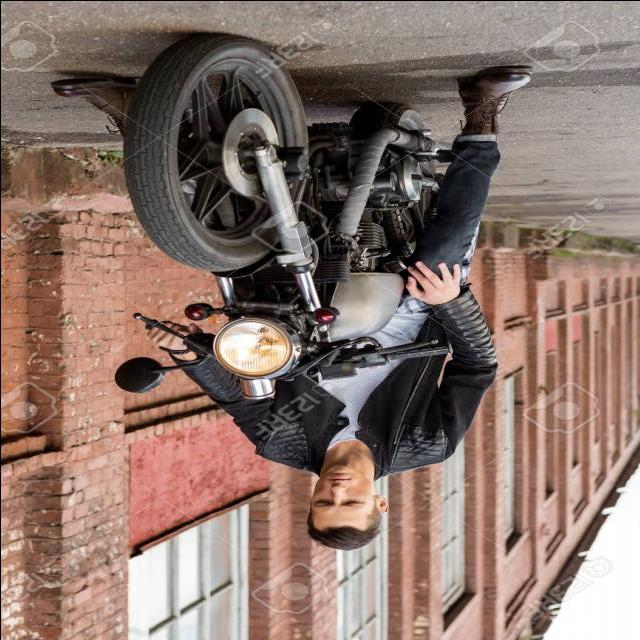motorcycle: (72, 35, 518, 550)
